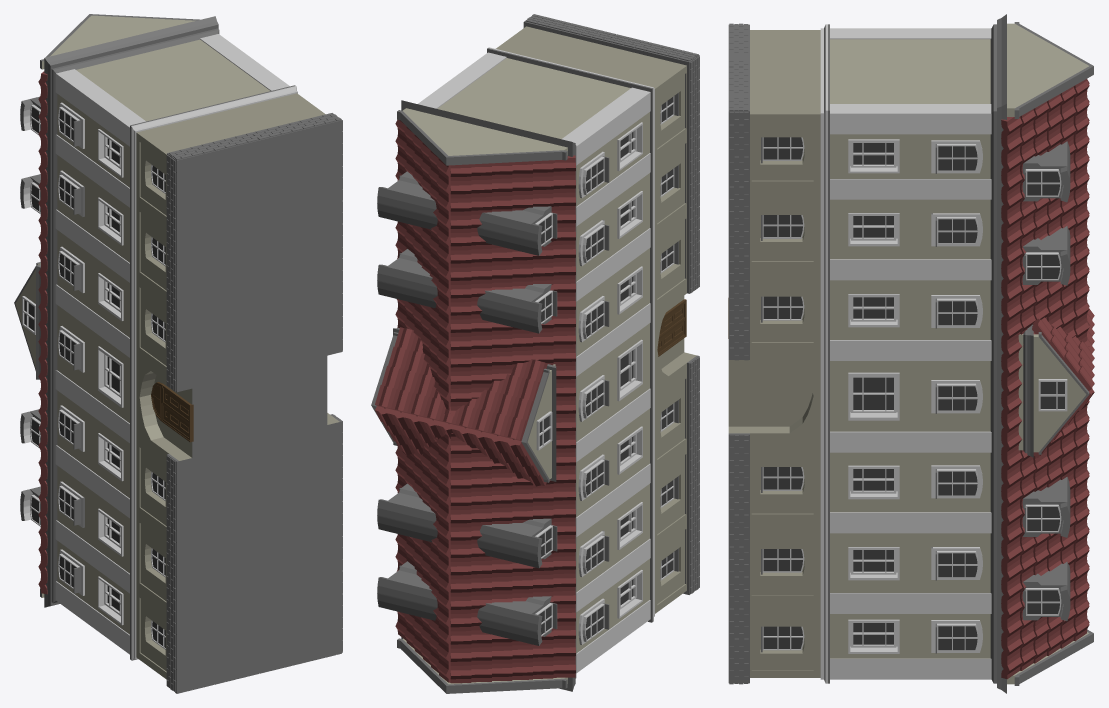
The model's file is houses.glb.
3 views of the same model, side by side, from view 1: azimuth 30°, elevation 25°; view 2: azimuth 150°, elevation 25°; view 3: azimuth 270°, elevation 25° (orthographic). The views are drawn at different scales.
Parts seen in each view (by area): view 1: Building1_Large; view 2: Building1_Large; view 3: Building1_Large.
Boxes of the visible parts, bbox=[...] form: Building1_Large: bbox=[14, 14, 342, 693]; Building1_Large: bbox=[371, 14, 699, 693]; Building1_Large: bbox=[728, 14, 1094, 693].
Size of the model in its own units: 5.5 by 16 by 9.
